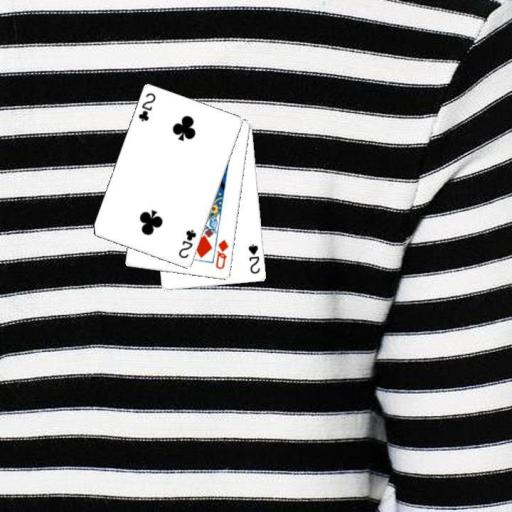2C: (176, 227, 198, 260), (135, 90, 157, 123)
2S: (245, 241, 262, 275)
QD: (213, 237, 231, 271)
